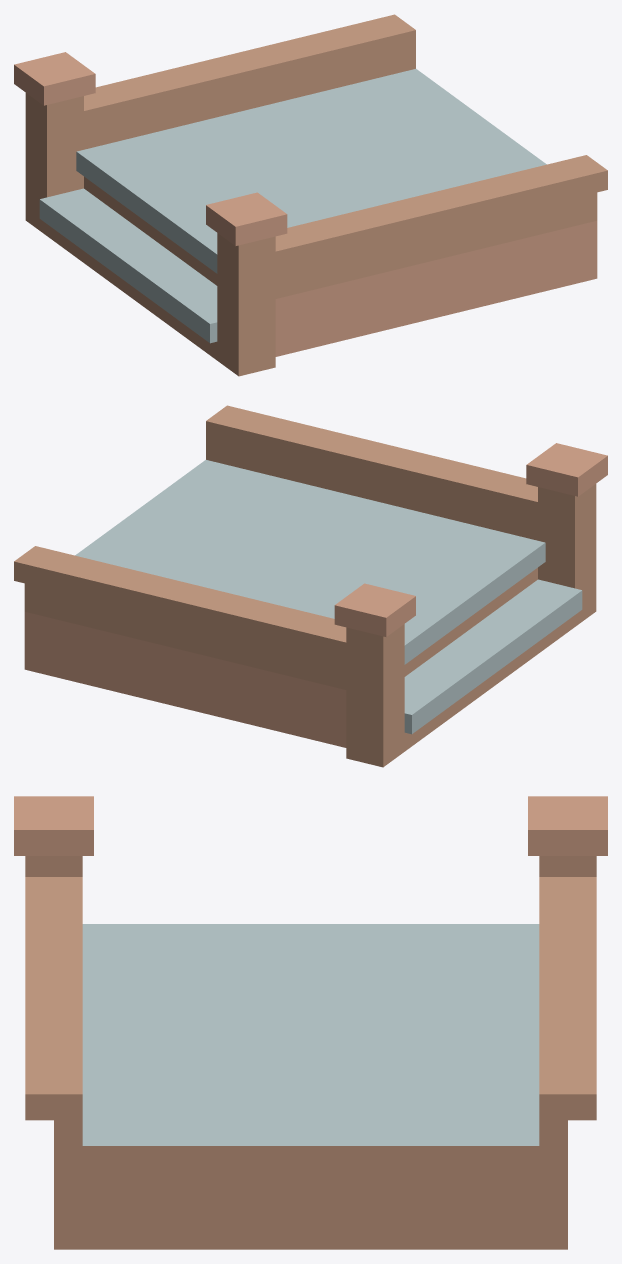
The model's file is bridge_side_wood.glb.
The picture shows the model from 3 angles, top to bottom: view 1: azimuth 30°, elevation 25°; view 2: azimuth 150°, elevation 25°; view 3: azimuth 270°, elevation 25°; orthographic projection. The views are drawn at different scales.
Parts seen in each view (by area): view 1: bridge_side_wood; view 2: bridge_side_wood; view 3: bridge_side_wood.
Part boxes in pixels (<box>): bridge_side_wood: <box>14,14,607,376</box>; bridge_side_wood: <box>14,405,607,767</box>; bridge_side_wood: <box>14,796,607,1249</box>.
Bounding box in the file's own units: 1.02 × 0.4 × 1.04.
